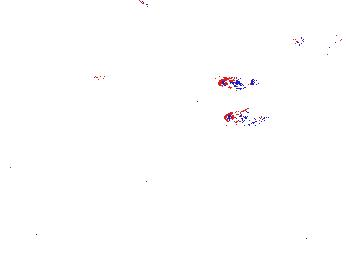red belly glassfish: (224, 109, 270, 129), (218, 75, 257, 92)
redtail glassfish: (289, 23, 346, 54)
